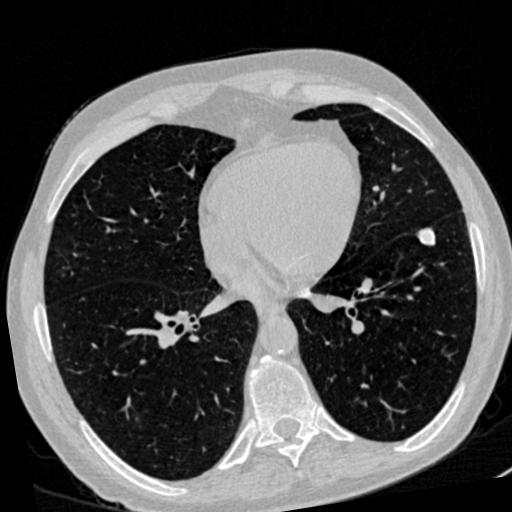nodule: (415, 225, 439, 249)
